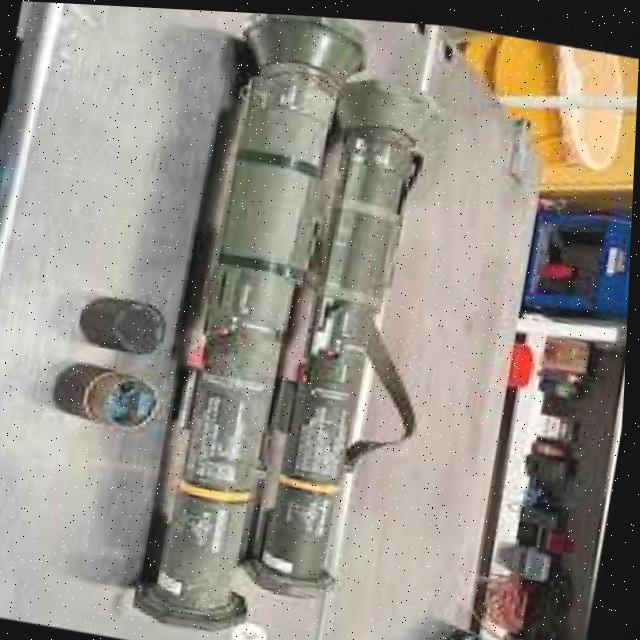rocket: (148, 7, 444, 640)
